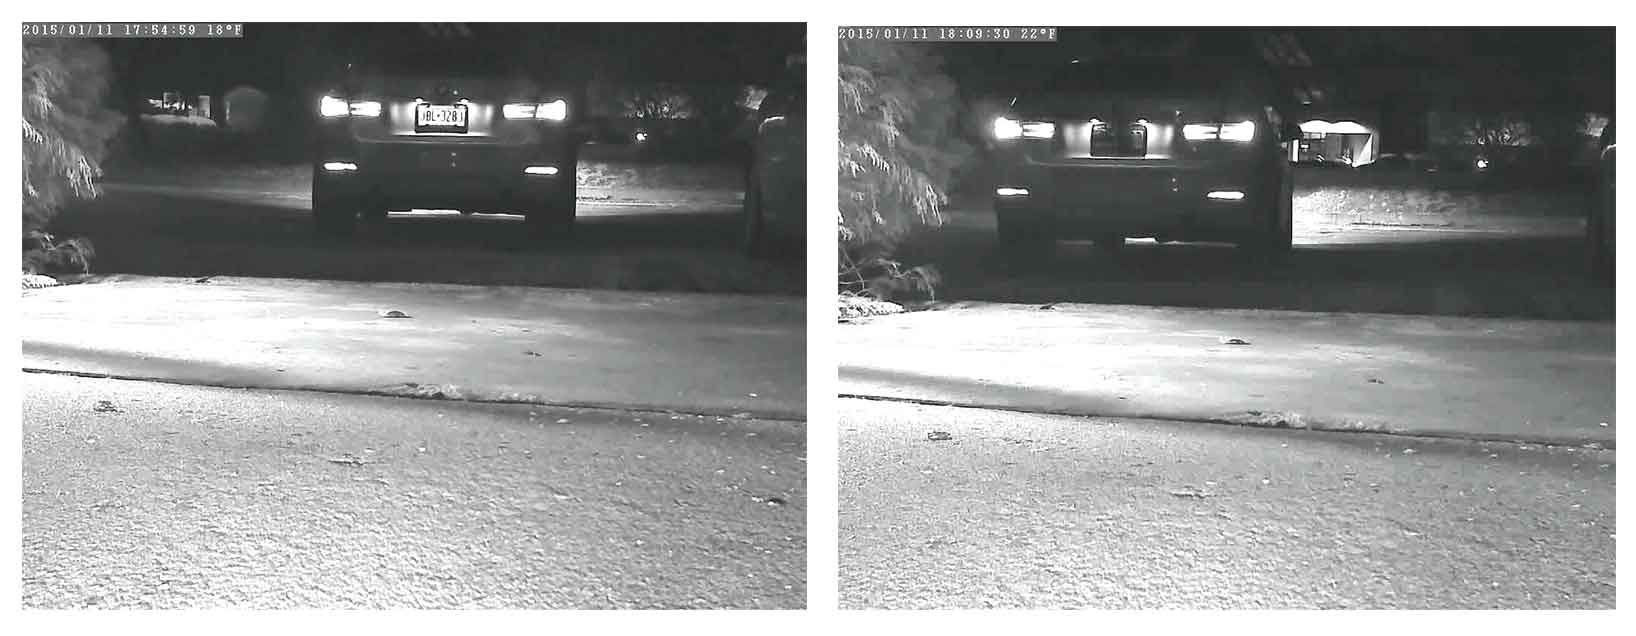license plate: (409, 102, 474, 133)
